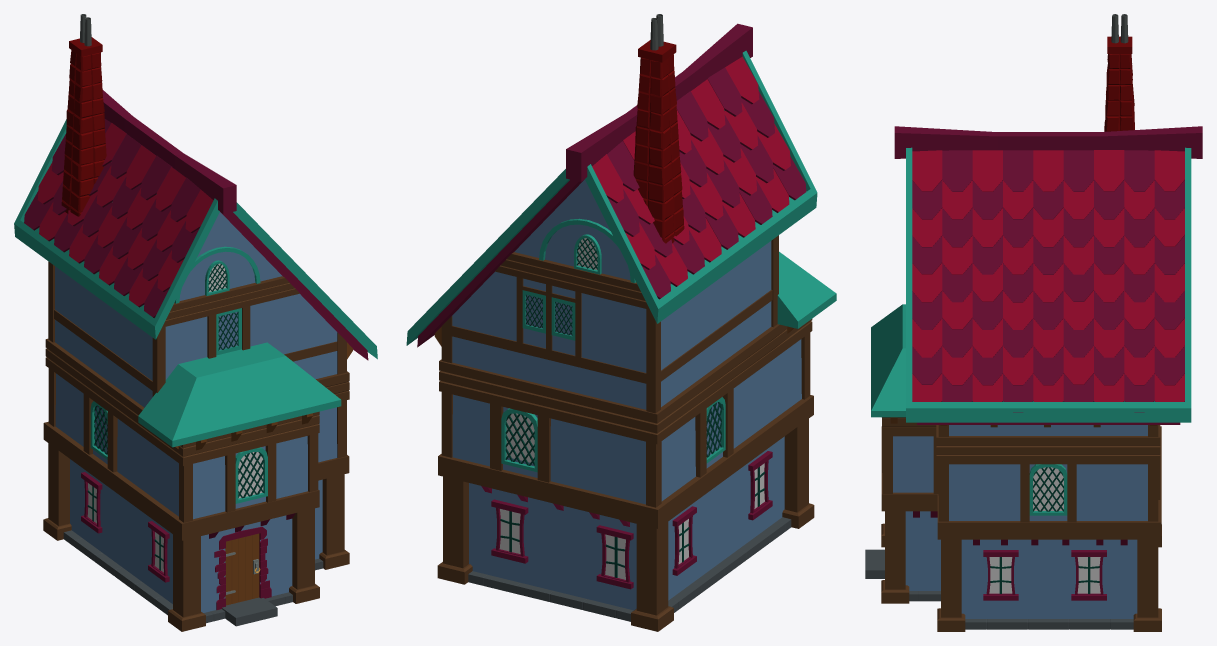
The model's file is SM_Hous_10_A.gltf.
3 renders of one model, left to right at view 1: azimuth 30°, elevation 25°; view 2: azimuth 150°, elevation 25°; view 3: azimuth 270°, elevation 25°, orthographic. The views are drawn at different scales.
Visible parts, largest first — view 1: SM_Hous_10_A; view 2: SM_Hous_10_A; view 3: SM_Hous_10_A.
Boxes of the visible parts, x1,y1,x2,y2 form: SM_Hous_10_A: (14,14,377,631); SM_Hous_10_A: (406,14,836,631); SM_Hous_10_A: (865,14,1202,631).
Size of the model in its own units: 7.11 by 15.96 by 9.19.
